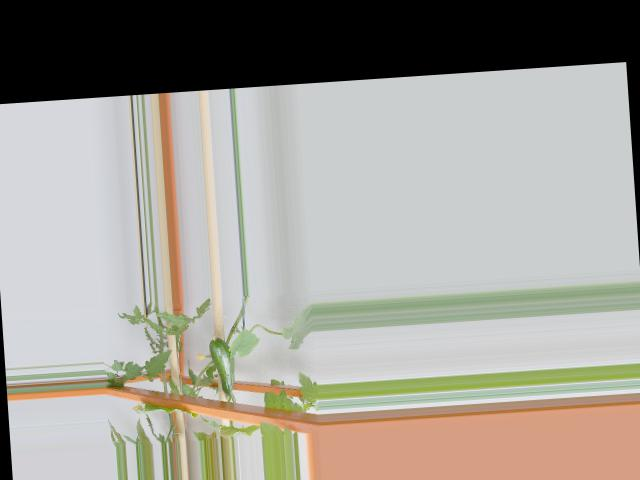cucumber: (208, 332, 236, 394)
